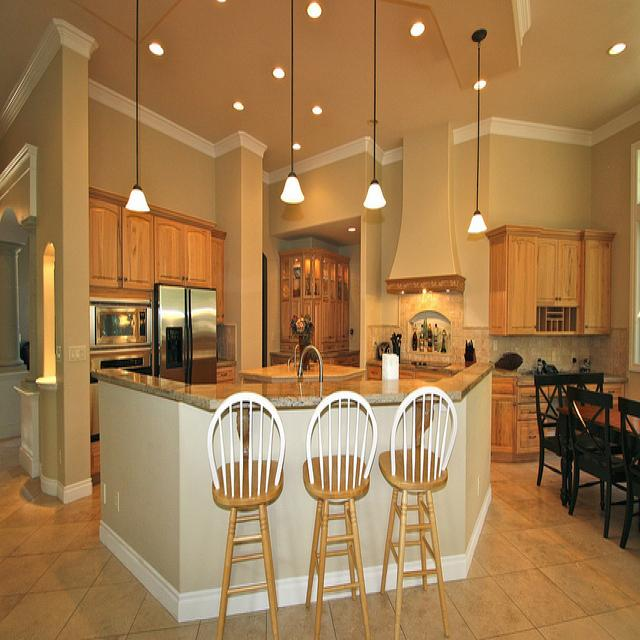chair: (378, 386, 458, 640), (206, 387, 285, 633), (302, 394, 383, 627), (568, 385, 627, 539), (534, 373, 604, 487), (617, 397, 640, 548)
dining table: (102, 360, 494, 417), (557, 404, 640, 508)
